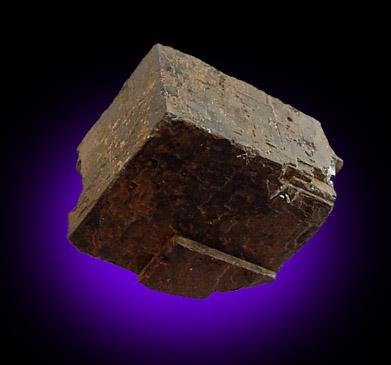limonite: (69, 44, 344, 298), (183, 133, 191, 138)
